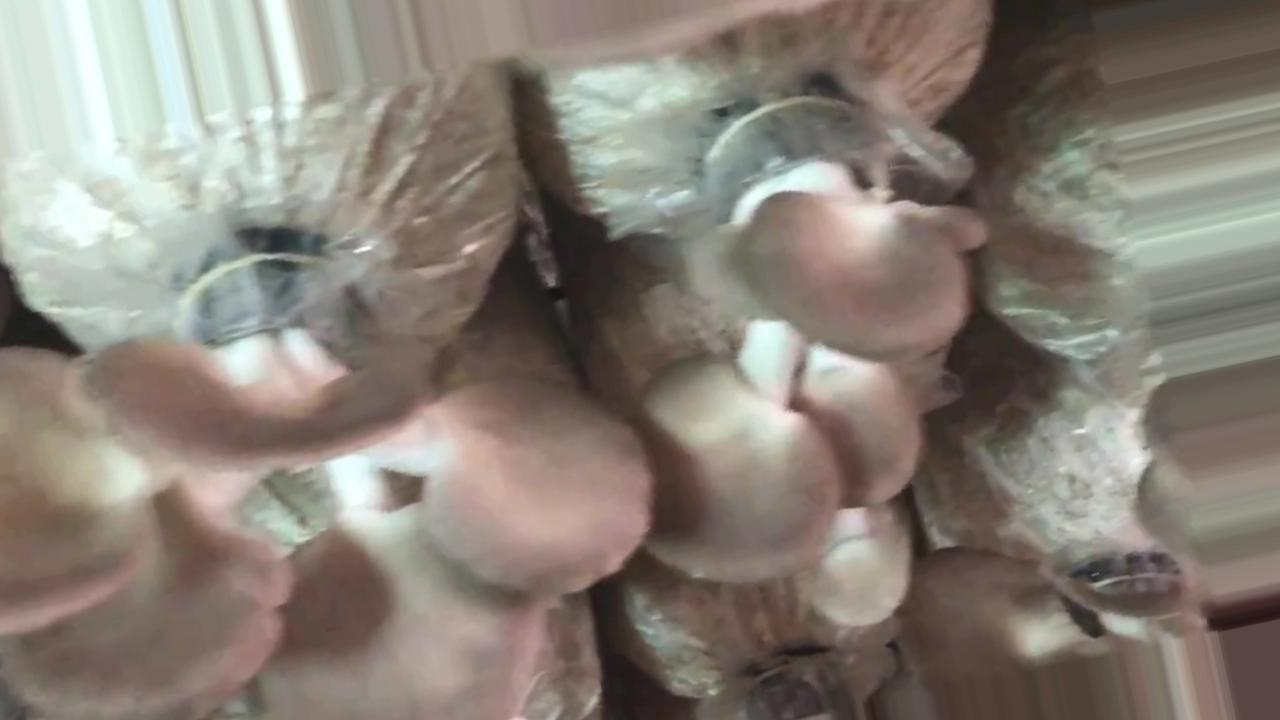nam: (1, 257, 655, 719), (640, 106, 991, 624), (902, 551, 1280, 719), (1138, 358, 1279, 563)
